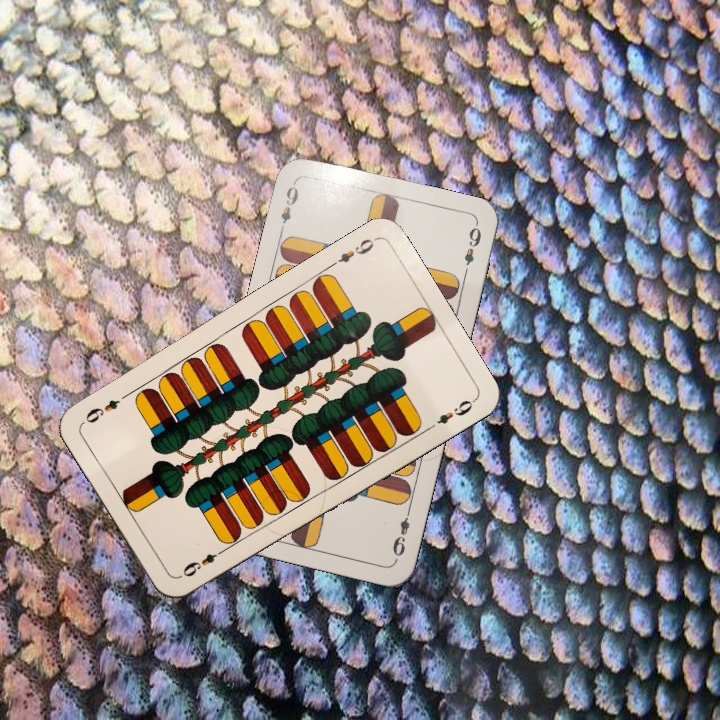E9: (175, 544, 229, 581), (325, 233, 379, 270), (275, 178, 301, 236), (388, 504, 414, 560)
